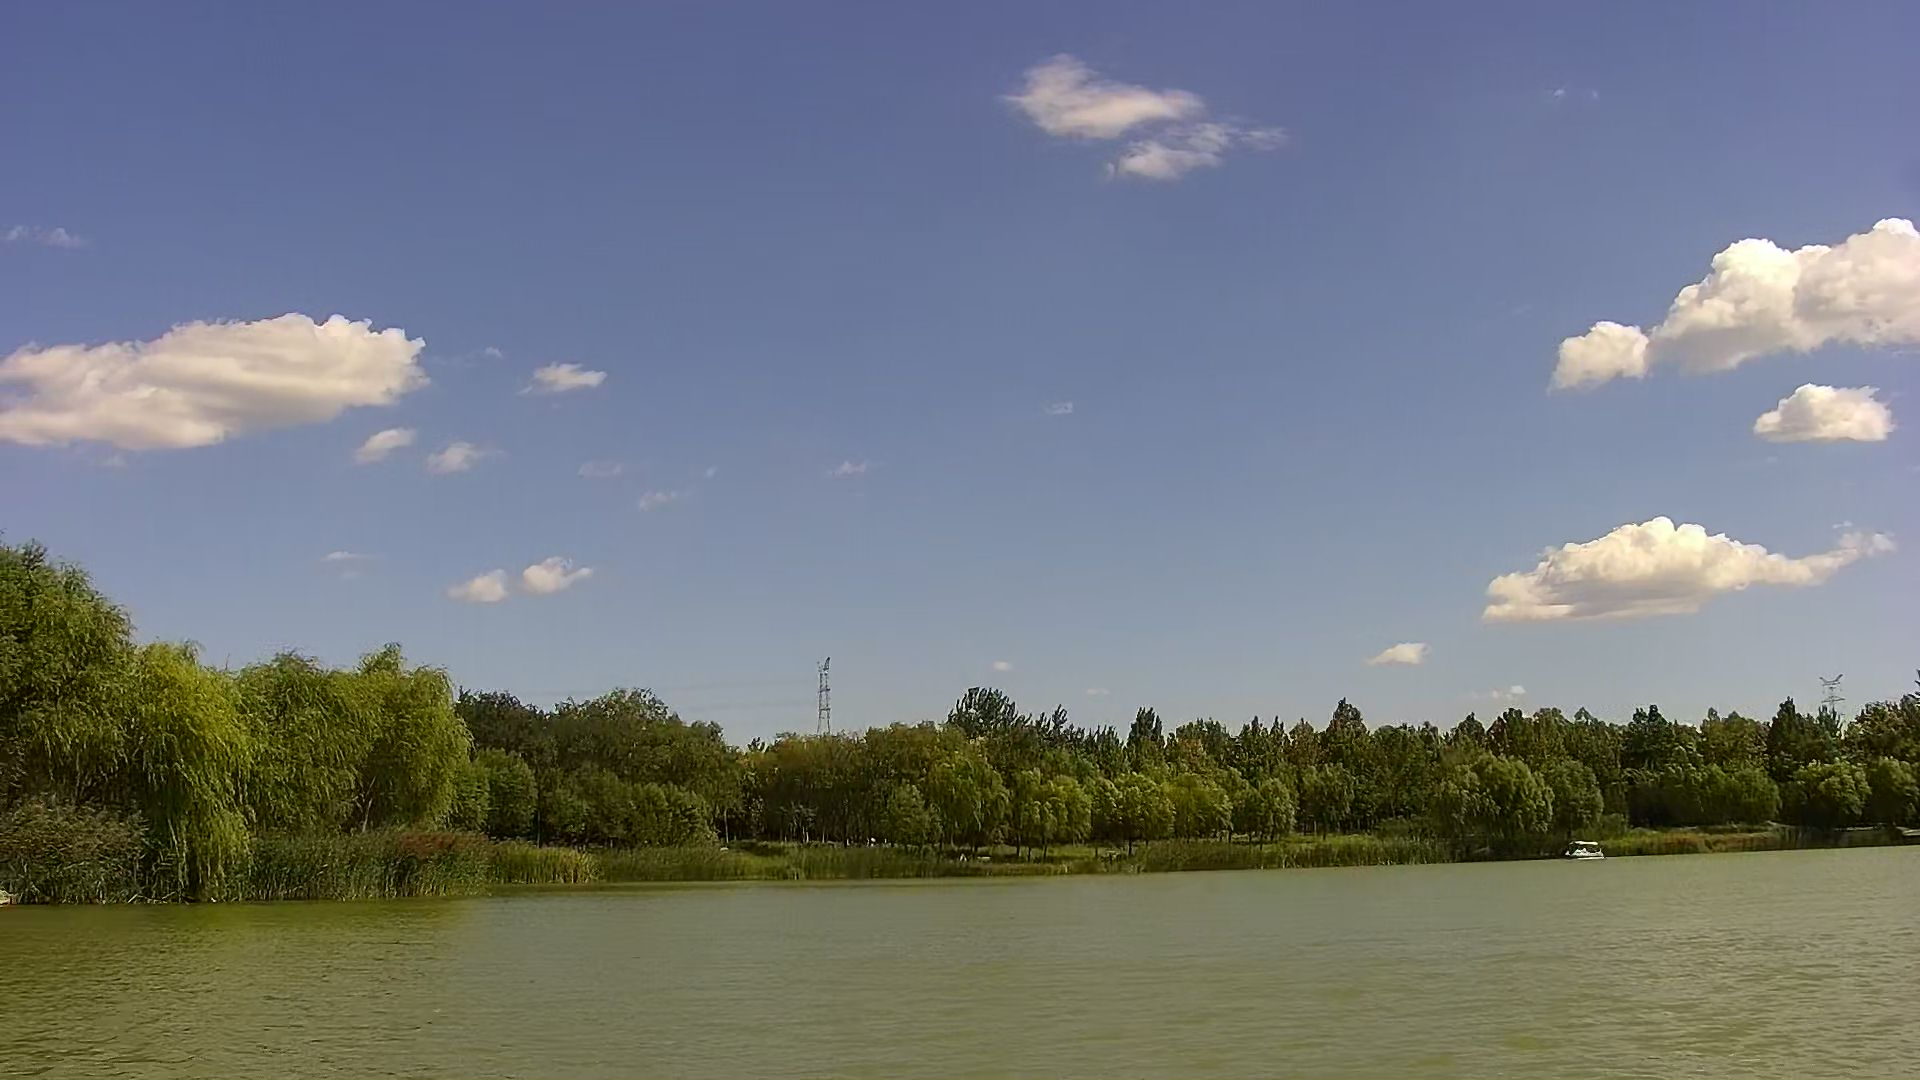boat: (1563, 832, 1606, 864)
